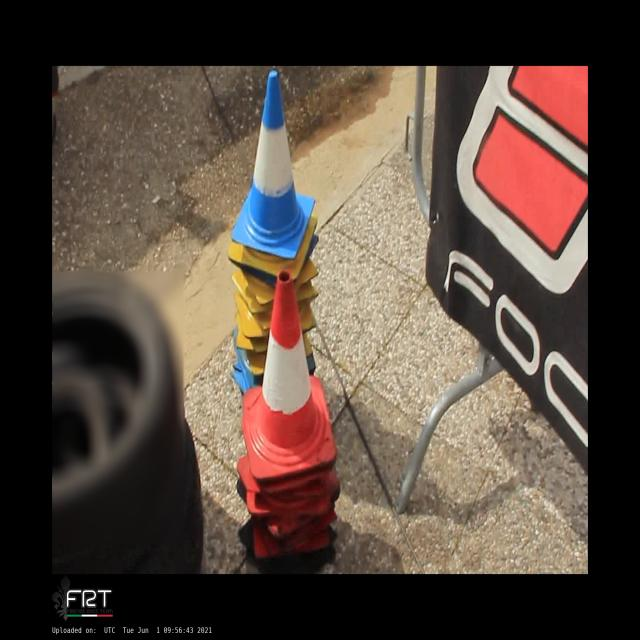blue_cone: (231, 71, 315, 259)
orange_cone: (242, 271, 337, 479)
